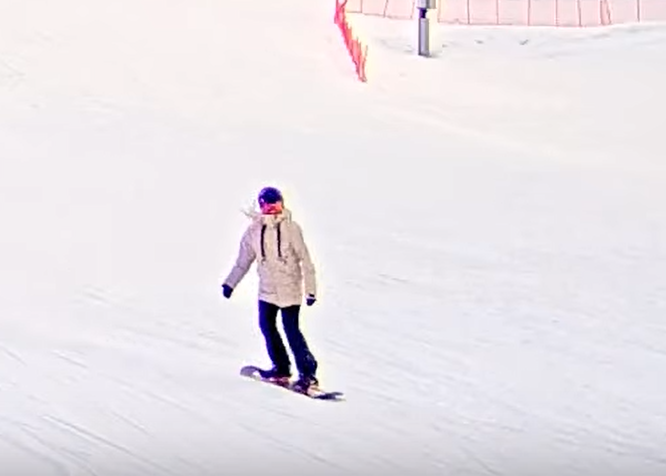snowboarder: (202, 179, 367, 414)
